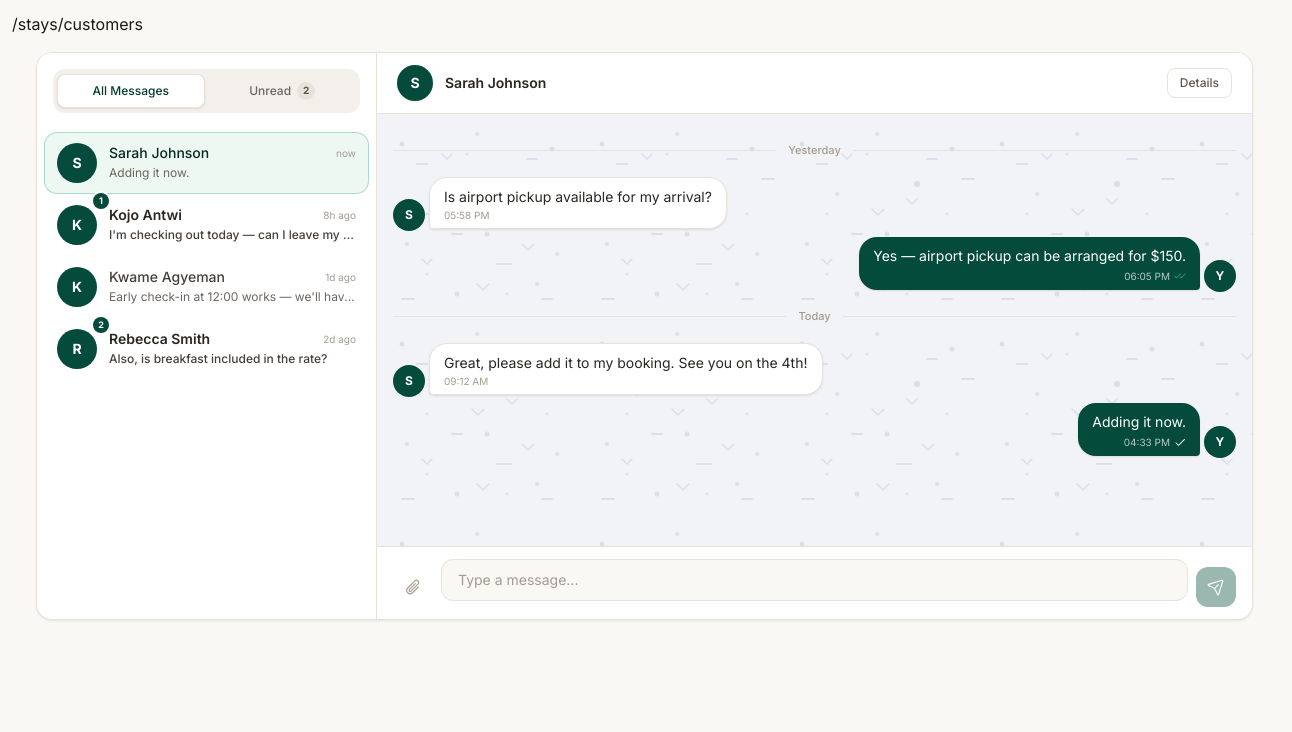
StaysCustomersPage — experiences-parity customers chat › filters to unread conversations
Step 1. Click the button "Unread 2" → click(282, 91), box [208,73,356,109]
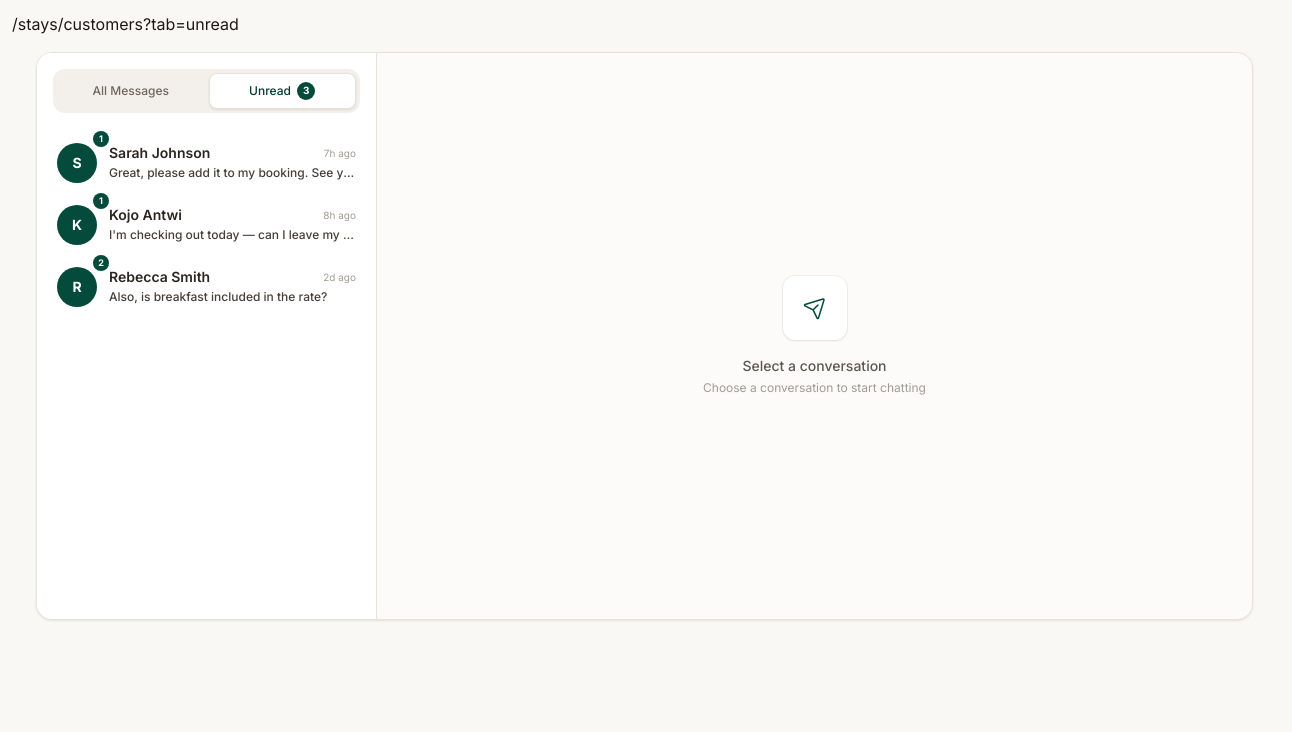
Check: the text "Sarah Johnson" is shown, box [109,143,210,163]
Check: the button "Kwame Agyeman" is gone
